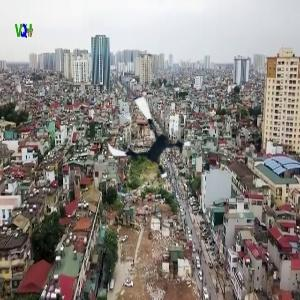drone: (107, 97, 191, 181)
